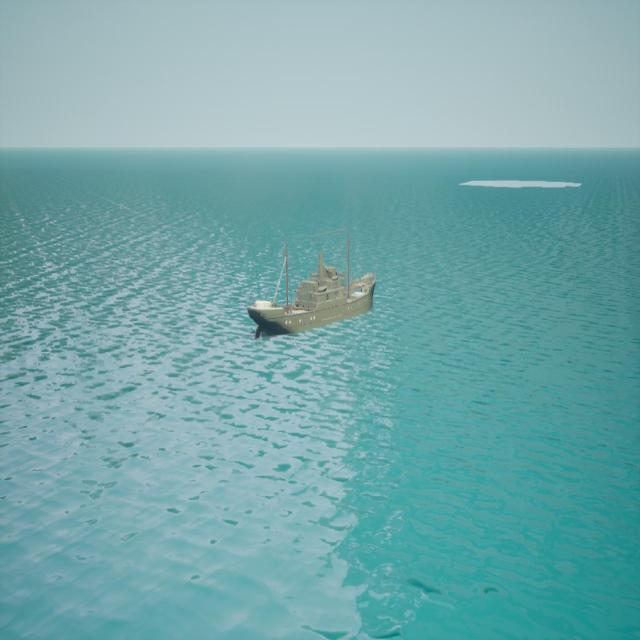fishing ship: (250, 229, 376, 341)
